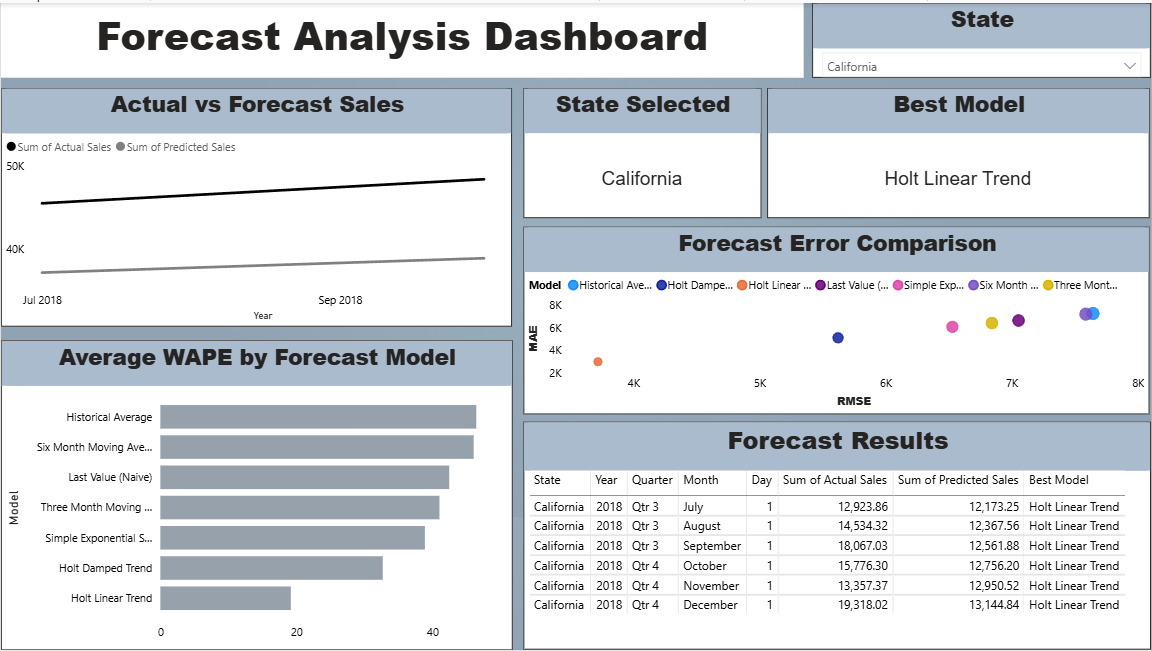

The dashboard page shown, as its layout file describes it:
{"tool":"powerbi","page":{"name":"Forecast Analysis","canvas":[1280,720],"ordinal":1},"visuals":[{"type":"textbox","box":[0,0,893.4,83.5],"z":0},{"type":"slicer","title":"State","fields":{"Values":["state_summary.State"]},"box":[903.2,0,377.1,83.5],"z":1000},{"type":"lineChart","title":"Actual vs Forecast Sales","fields":{"Category":["forecast_results.Month.Variation.Date Hierarchy.Year","forecast_results.Month.Variation.Date Hierarchy.Quarter"],"Y":["Sum(forecast_results.Actual Sales)","Sum(forecast_results.Predicted Sales)"]},"box":[0,94.6,569.2,265.8],"z":2000},{"type":"clusteredBarChart","title":"Average WAPE by Forecast Model","fields":{"Category":["model_comparison.Model"],"Y":["Avg(model_comparison.WAPE)"]},"box":[0,376,569.5,344.4],"z":3000},{"type":"scatterChart","title":"Forecast Error Comparison","fields":{"Series":["model_comparison.Model"],"Size":["Sum(model_comparison.WAPE)"],"X":["Sum(model_comparison.RMSE)"],"Y":["Sum(model_comparison.MAE)"]},"box":[581.7,249.1,697.2,208.7],"z":4000},{"type":"tableEx","title":"Forecast Results","fields":{"Values":["forecast_results.State","forecast_results.Month.Variation.Date Hierarchy.Year","forecast_results.Month.Variation.Date Hierarchy.Quarter","forecast_results.Month.Variation.Date Hierarchy.Month","forecast_results.Month.Variation.Date Hierarchy.Day","Sum(forecast_results.Actual Sales)","Sum(forecast_results.Predicted Sales)","forecast_results.Best Model"]},"box":[581.7,466.2,698.6,253.3],"z":5000},{"type":"cardVisual","title":"State Selected","fields":{"Data":["Min(state_summary.State)"]},"box":[581.7,94.6,264.4,144.7],"z":6000},{"type":"cardVisual","title":"Best Model","fields":{"Data":["Min(forecast_results.Best Model)"]},"box":[853.1,94.6,425.8,144.7],"z":7000}]}

Visuals, with their boxes in screenshot pixels (x1, y1, x2, y2), scaled from the page's 1280x720 canvas onto the 1152x651 screenshot:
textbox: x1=0 y1=0 x2=804 y2=75
"State" slicer: x1=813 y1=0 x2=1151 y2=75
"Actual vs Forecast Sales" lineChart: x1=0 y1=86 x2=512 y2=326
"Average WAPE by Forecast Model" clusteredBarChart: x1=0 y1=340 x2=513 y2=650
"Forecast Error Comparison" scatterChart: x1=524 y1=225 x2=1151 y2=414
"Forecast Results" tableEx: x1=524 y1=422 x2=1151 y2=650
"State Selected" cardVisual: x1=524 y1=86 x2=761 y2=216
"Best Model" cardVisual: x1=768 y1=86 x2=1151 y2=216
